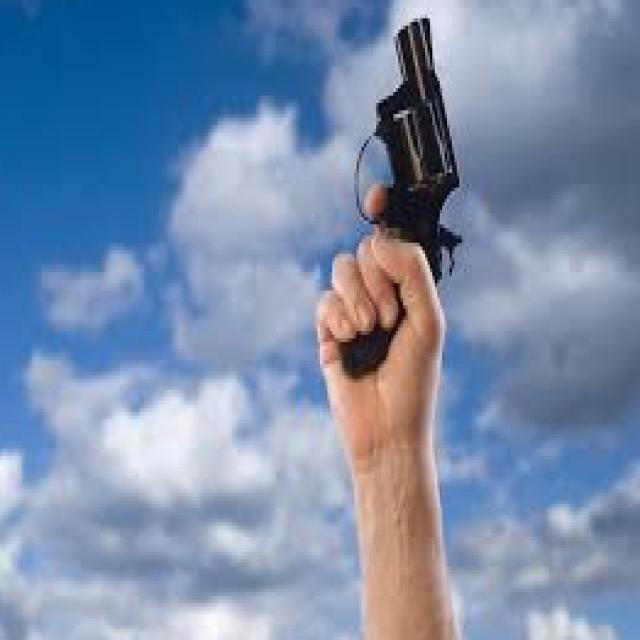gun: (293, 0, 498, 386)
